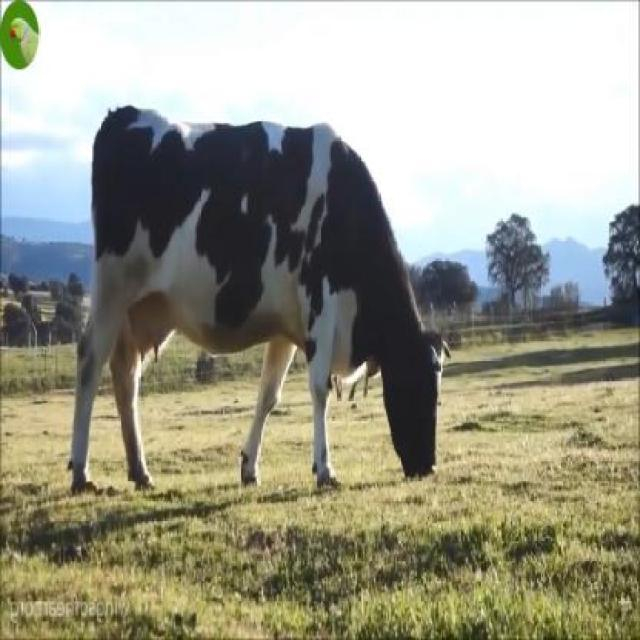Cow: (68, 107, 448, 496)
